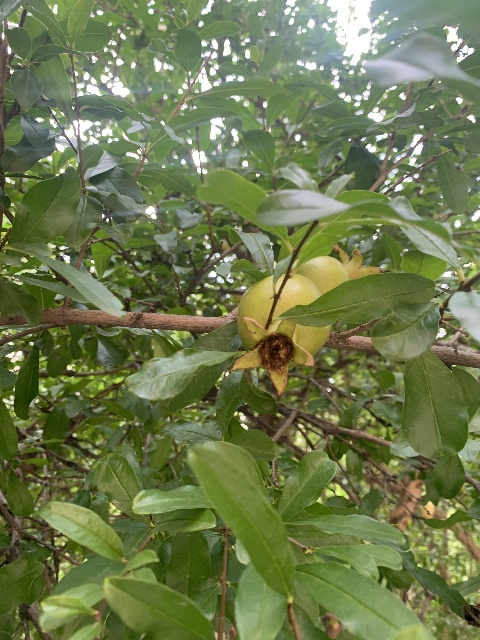mid-growth: (230, 272, 330, 396), (295, 242, 384, 295)
